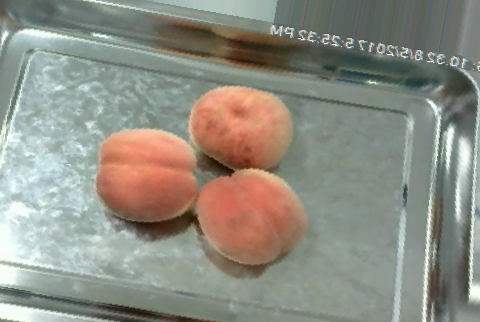Peach: (194, 170, 306, 263), (95, 127, 197, 223), (187, 85, 293, 170)
